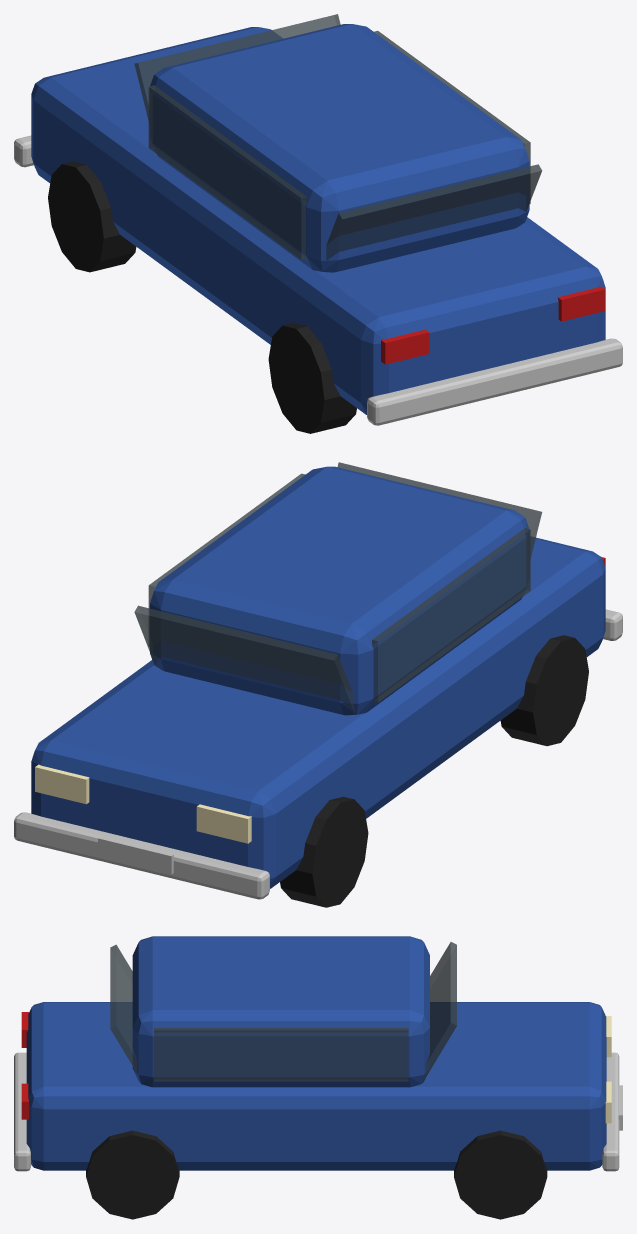
File: oto_m.glb
The picture shows the model from 3 angles, top to bottom: view 1: azimuth 30°, elevation 25°; view 2: azimuth 150°, elevation 25°; view 3: azimuth 270°, elevation 25°; orthographic projection. The views are drawn at different scales.
Parts seen in each view (by area): view 1: ArkaCam; view 2: ArkaCam; view 3: ArkaCam.
Boxes of the visible parts, box(x1,y1,x2,y2) form: ArkaCam: box(14, 14, 622, 433); ArkaCam: box(14, 462, 622, 907); ArkaCam: box(14, 936, 622, 1219).
Size of the model in its own units: 0.36 by 0.3 by 0.861.
